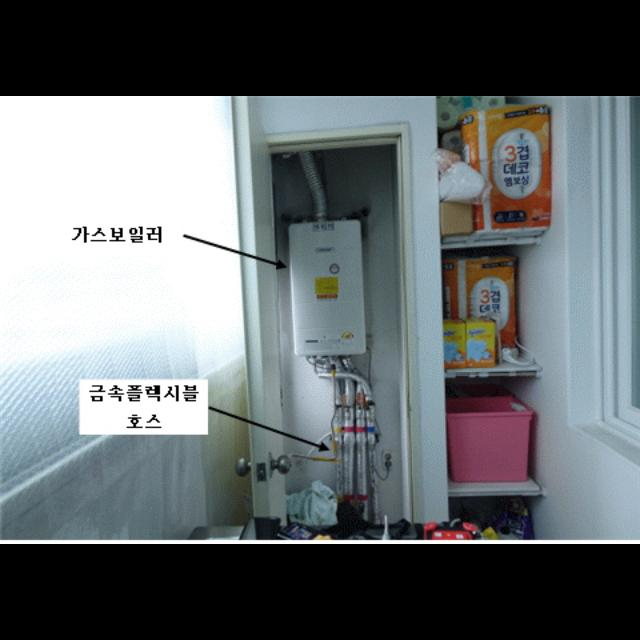Boiler: (280, 210, 378, 384)
